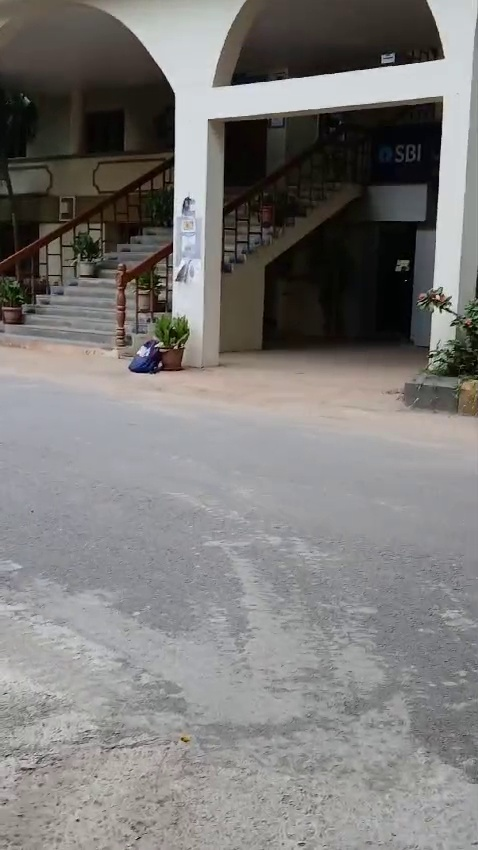bag: (127, 330, 162, 376)
